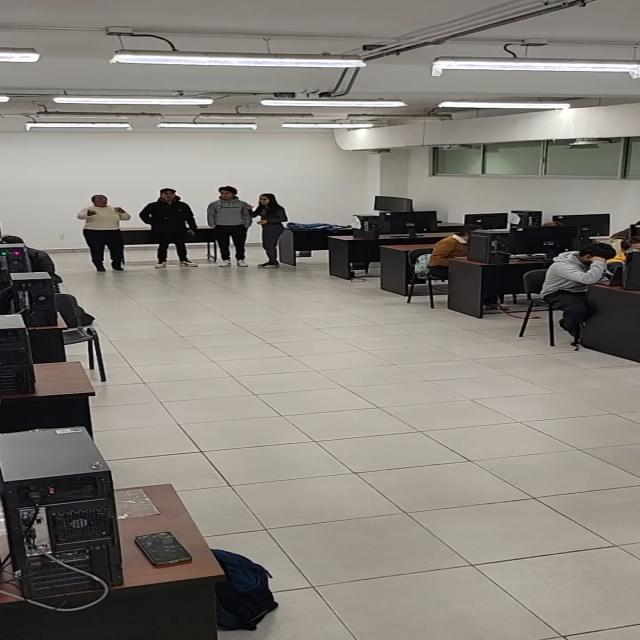Persona: (78, 192, 127, 270), (150, 188, 196, 268), (212, 185, 249, 269), (257, 189, 289, 268)
